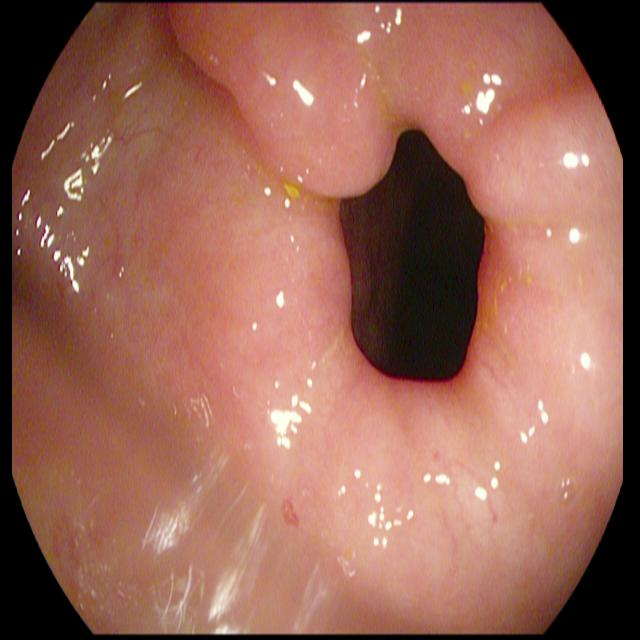normal-pylorus: (158, 1, 619, 246)
